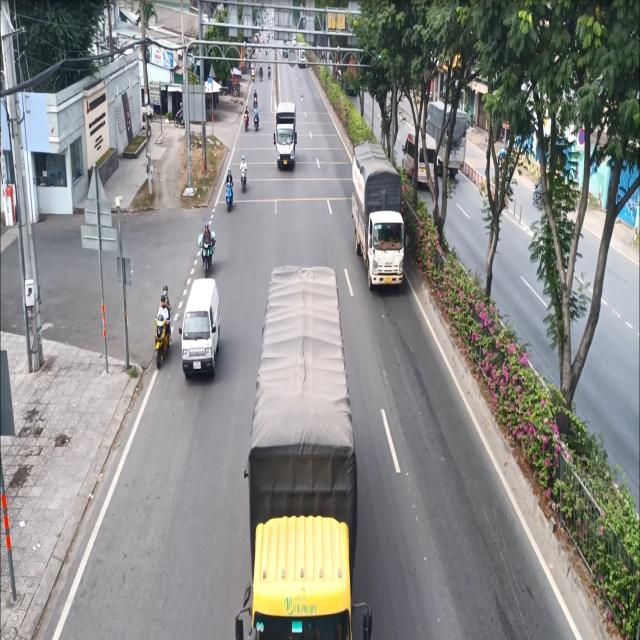car: (178, 270, 223, 384)
motor: (150, 279, 173, 371), (198, 220, 217, 277), (236, 148, 252, 194), (222, 168, 236, 209)
truck: (232, 254, 372, 640), (348, 142, 406, 298), (274, 97, 298, 175)
